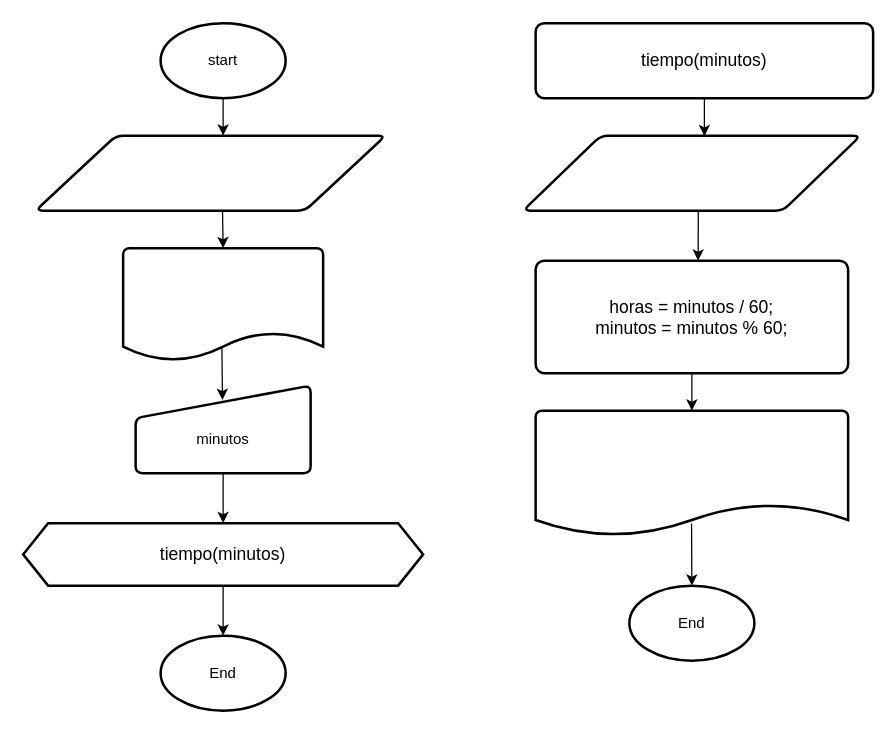
This 895x733 diagram has some shape labels left out. Here are the shapes that lost their labels. From the top down, the centre of each, then its label:
point (210, 172): minutos = 0
point (691, 172): horas = 0;
point (222, 303): "Digite el total de minutos transcurridos: "
point (691, 472): "Horas: "+ horas + " Minutos: " + minutos;
